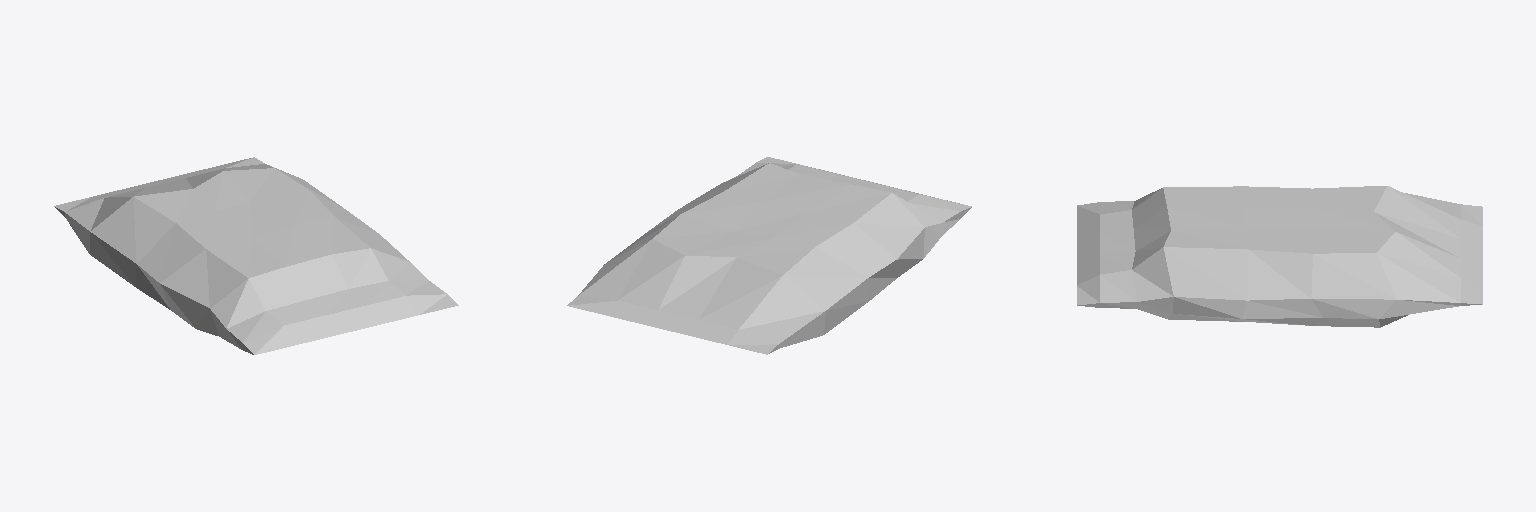
Rendered from chipbag.obj.
The picture shows the model from 3 angles: view 1: azimuth 30°, elevation 25°; view 2: azimuth 150°, elevation 25°; view 3: azimuth 270°, elevation 25°; orthographic projection.
Visible parts, largest first — view 1: chipbag; view 2: chipbag; view 3: chipbag.
Boxes of the visible parts, x1,y1,x2,y2 form: chipbag: [54, 157, 458, 354]; chipbag: [567, 157, 971, 354]; chipbag: [1077, 186, 1482, 327].
Bounding box in the file's own units: 0.2247 × 0.0706 × 0.3509.